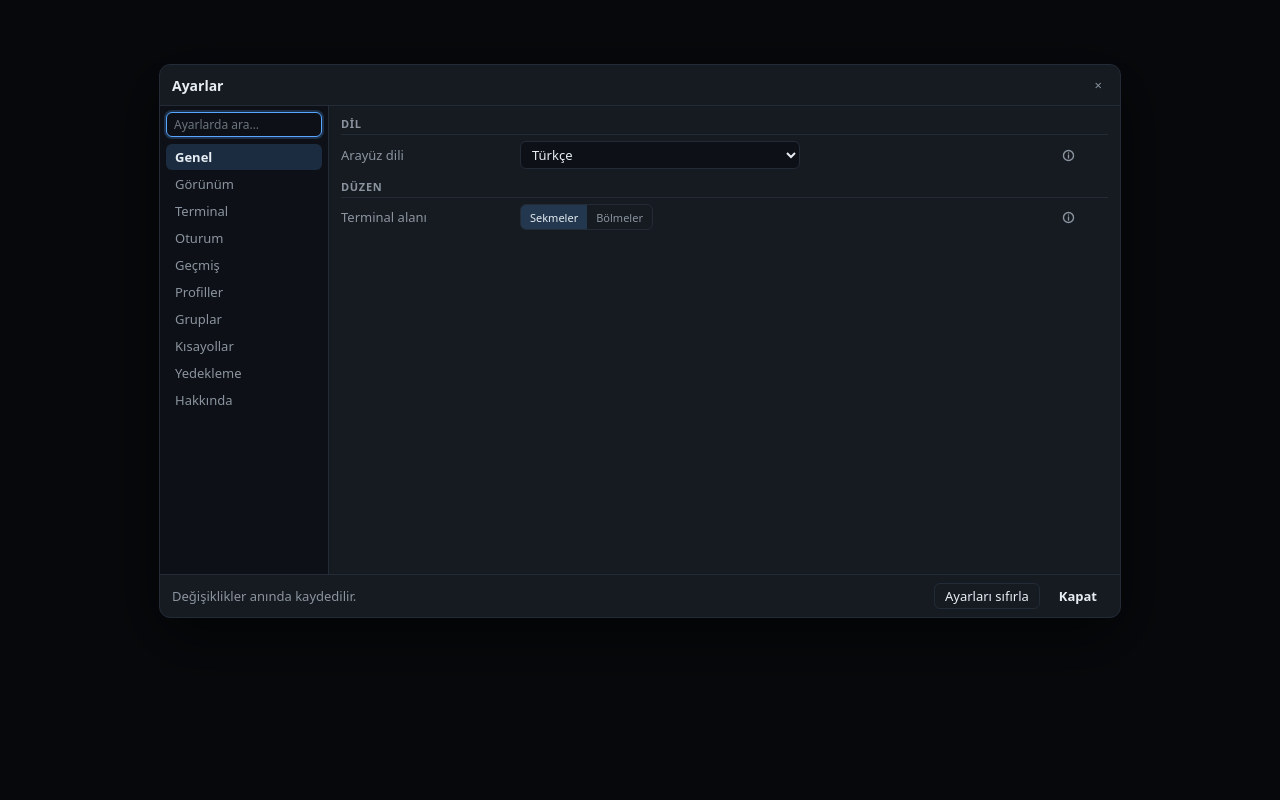
Test: ayarlarda arama › temizle düğmesi yalnızca sorgu varken görünüyor
Type "x" into the field with placeholder "Ayarlarda ara…". click: [244, 124]
box: [166,112,322,137]
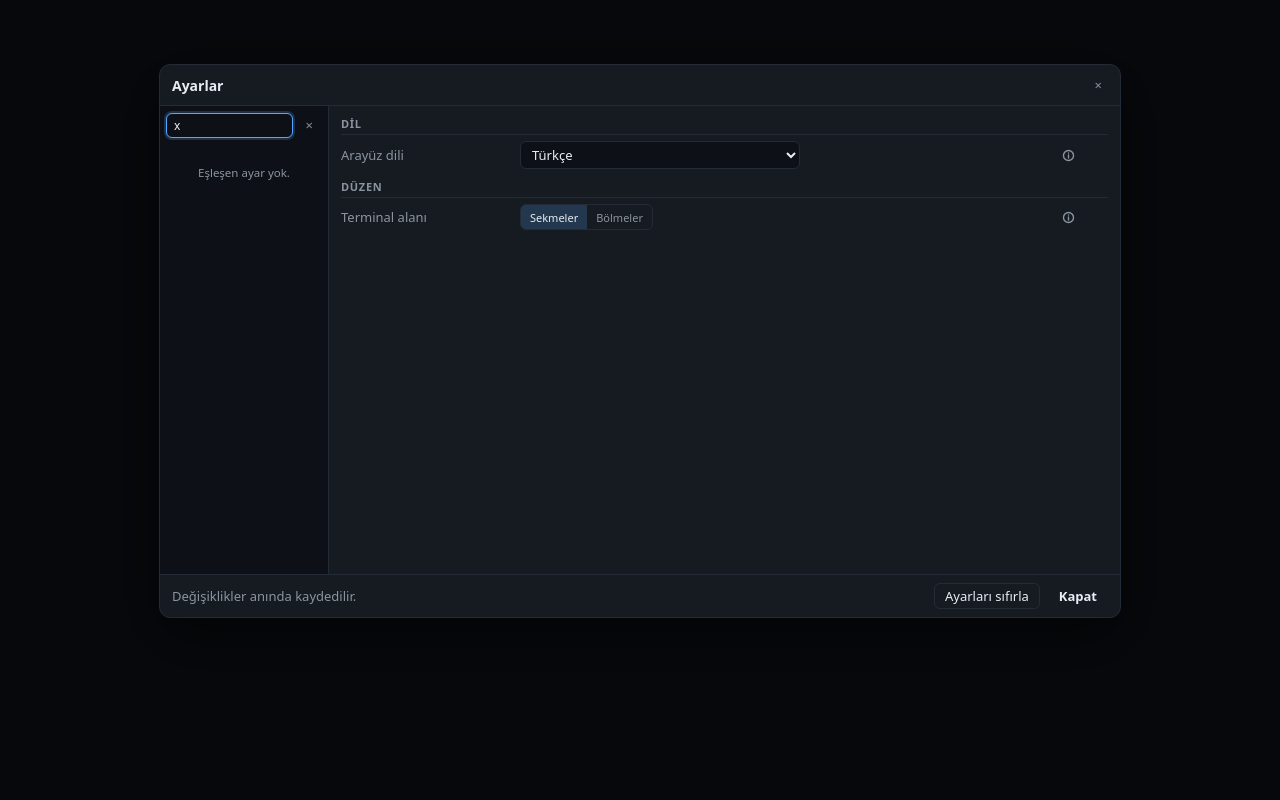
Check: the 2nd button with class "icon-btn" is shown, box [297,112,322,138]
